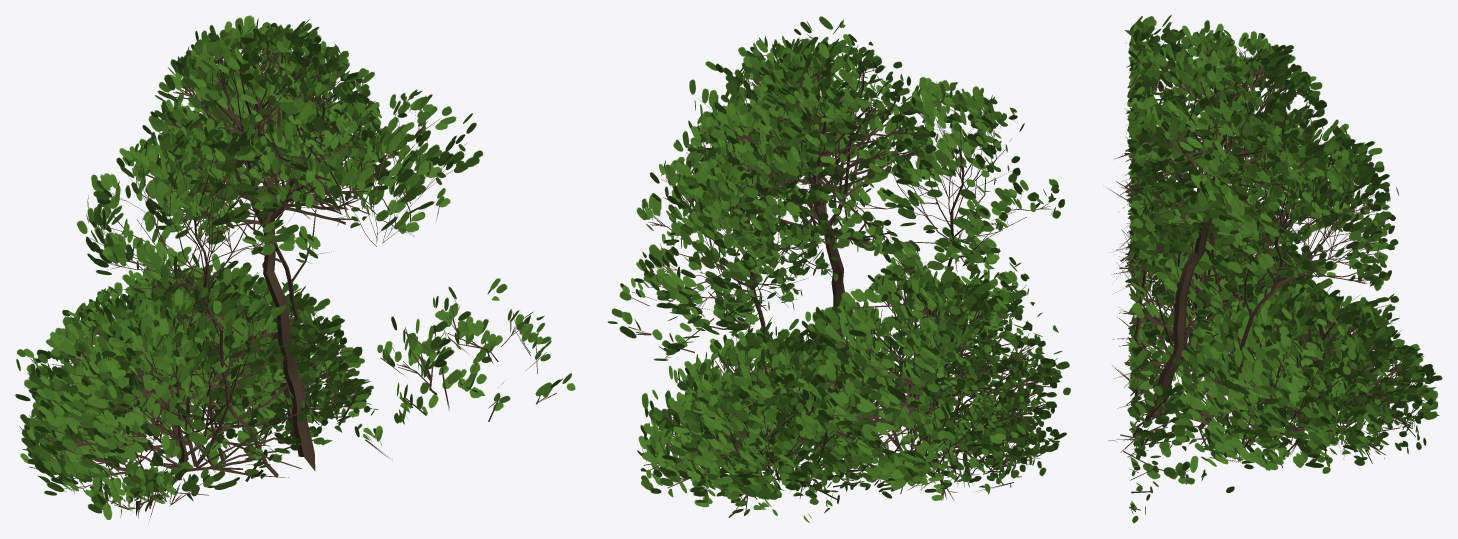
3 views of the same model, side by side, from view 1: azimuth 30°, elevation 25°; view 2: azimuth 150°, elevation 25°; view 3: azimuth 270°, elevation 25° (orthographic). The views are drawn at different scales.
Parts seen in each view (by area): view 1: oak 01.001_trunk_Mat.001_0.326; view 2: oak 01.001_trunk_Mat.001_0.326; view 3: oak 01.001_trunk_Mat.001_0.326.
Boxes of the visible parts, bbox=[...] form: oak 01.001_trunk_Mat.001_0.326: bbox=[15, 15, 575, 523]; oak 01.001_trunk_Mat.001_0.326: bbox=[607, 16, 1070, 522]; oak 01.001_trunk_Mat.001_0.326: bbox=[1108, 15, 1442, 522].
Size of the model in its own units: 6.05 by 5.06 by 3.81.
2 materials, 1 textured.
